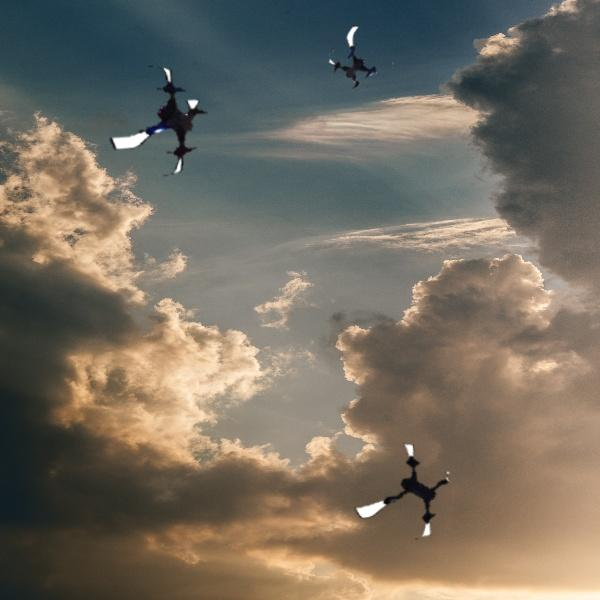drone: (99, 62, 216, 179), (350, 439, 460, 549), (328, 29, 396, 97)
